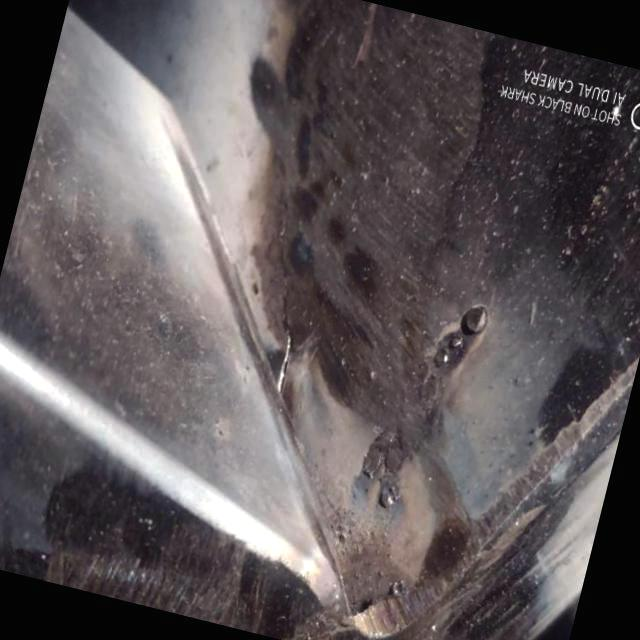defect: (272, 192, 295, 398)
